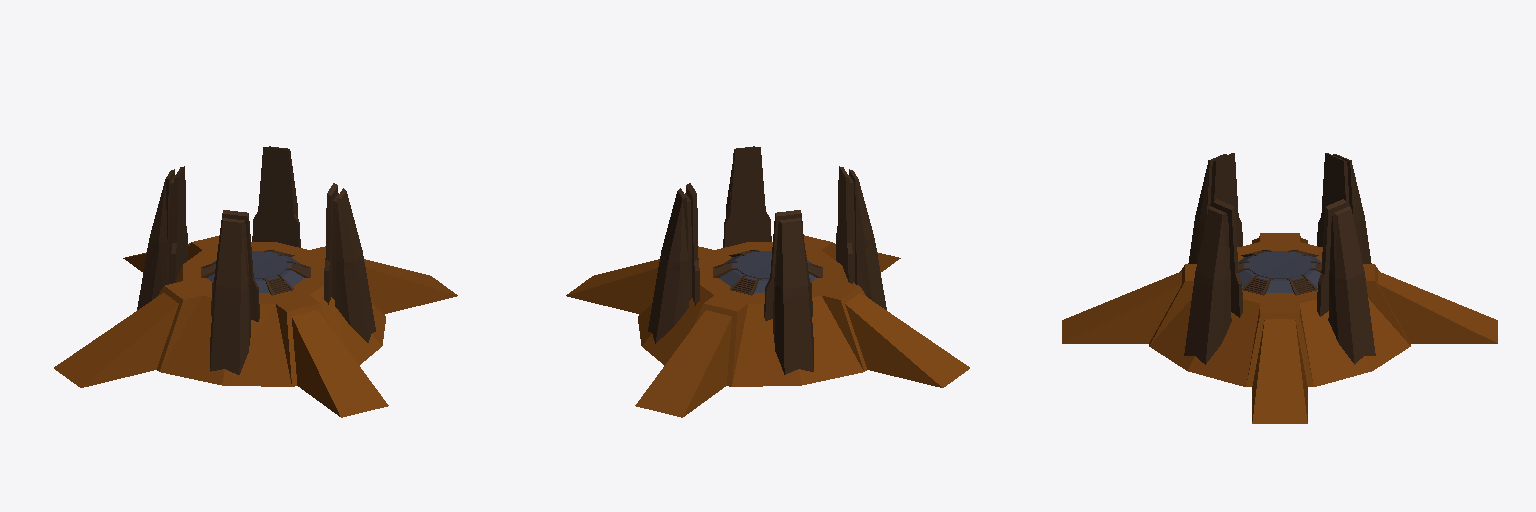
The model's file is Collission.obj.
3 views of the same model, side by side, from view 1: azimuth 30°, elevation 25°; view 2: azimuth 150°, elevation 25°; view 3: azimuth 270°, elevation 25° (orthographic).
Visible parts, largest first — view 1: Kini, Top; view 2: Kini, Top; view 3: Kini, Top.
Boxes of the visible parts, x1,y1,x2,y2 form: Kini: [54, 146, 457, 417]; Top: [201, 250, 310, 295]; Kini: [566, 146, 969, 417]; Top: [713, 250, 822, 295]; Kini: [1062, 153, 1497, 423]; Top: [1238, 250, 1321, 295].
Bounding box in the file's own units: 50 × 19.24 × 50.